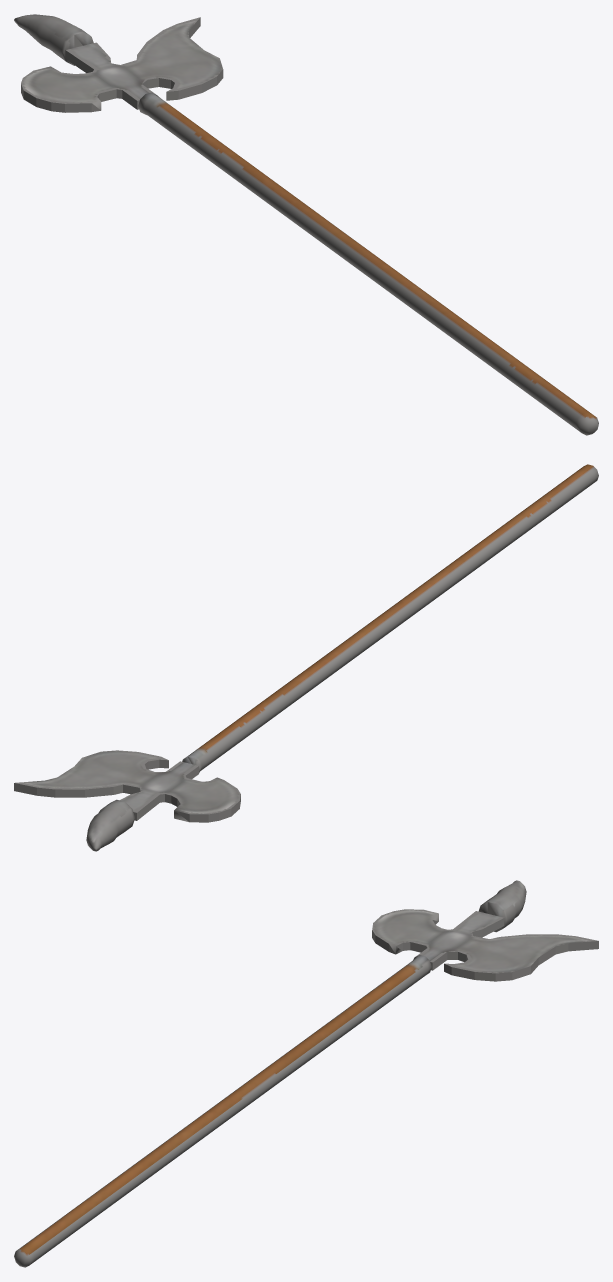
File: item_mm9_10061.glb
3 renders of one model, top to bottom at view 1: azimuth 30°, elevation 25°; view 2: azimuth 150°, elevation 25°; view 3: azimuth 330°, elevation 25°, orthographic. The views are drawn at different scales.
Visible parts, largest first — view 1: d10061; view 2: d10061; view 3: d10061.
Boxes of the visible parts, bbox=[...] form: d10061: bbox=[14, 14, 598, 435]; d10061: bbox=[14, 464, 598, 851]; d10061: bbox=[14, 880, 598, 1267].
Size of the model in its own units: 54.19 by 7.73 by 254.
1 material, 1 textured.
